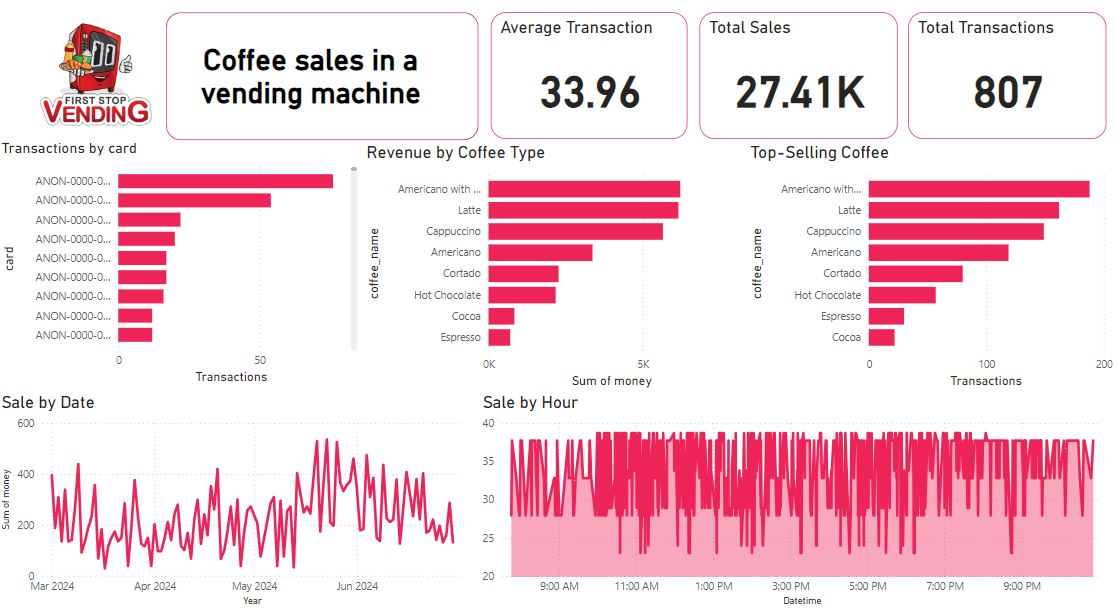

Layout of this report page (visuals, bound fields, positions):
{"tool":"powerbi","page":{"name":"Page 1","canvas":[1280,720],"ordinal":0},"visuals":[{"type":"card","title":"Total Sales","fields":{"Values":["Sum(index.money)"]},"box":[802.5,35,226.2,145],"z":0},{"type":"card","title":"Total Transactions","fields":{"Values":["index.Transactions"]},"box":[1041.2,35,226.2,145],"z":1000},{"type":"lineChart","title":"Sale by Date","fields":{"Y":["Sum(index.money)"],"Category":["index.date.Variation.Date Hierarchy.Year","index.date.Variation.Date Hierarchy.Month","index.date.Variation.Date Hierarchy.Day"]},"box":[0,470.7,550.3,249.7],"z":2000},{"type":"areaChart","title":"Sale by Hour ","fields":{"Category":["index.datetime"],"Y":["Sum(index.money)"]},"box":[550,470,730,250],"z":3000},{"type":"barChart","title":"Top-Selling Coffee ","fields":{"Category":["index.coffee_name"],"Y":["index.Transactions"]},"box":[855.7,184.3,424.3,285.7],"z":4000},{"type":"barChart","title":"Revenue by Coffee Type","fields":{"Category":["index.coffee_name"],"Y":["Sum(index.money)"]},"box":[417.1,184.3,438.6,285.7],"z":5000},{"type":"clusteredBarChart","fields":{"Category":["index.card"],"Y":["index.Transactions"]},"box":[0,180,417.1,285.7],"z":6000},{"type":"card","title":"Average Transaction ","fields":{"Values":["index.Average Sale Value"]},"box":[563.8,35,225,145],"z":7000},{"type":"image","box":[0,0,221.4,200],"z":8000},{"type":"shape","box":[192.5,35,357.5,146.2],"z":9000},{"type":"textbox","box":[193.8,66.2,328.8,102.5],"z":10000}]}

Visuals, with their boxes on the page's 1280x720 design canvas (x1, y1, x2, y2). These are canvas units, not pixel positions in the 1117x609 screenshot, which may show the page scaled, cropped or inside an application window:
"Total Sales" card: <region>802, 35, 1029, 180</region>
"Total Transactions" card: <region>1041, 35, 1267, 180</region>
"Sale by Date" lineChart: <region>0, 471, 550, 720</region>
"Sale by Hour " areaChart: <region>550, 470, 1280, 720</region>
"Top-Selling Coffee " barChart: <region>856, 184, 1280, 470</region>
"Revenue by Coffee Type" barChart: <region>417, 184, 856, 470</region>
clusteredBarChart - index.card x index.Transactions: <region>0, 180, 417, 466</region>
"Average Transaction " card: <region>564, 35, 789, 180</region>
image: <region>0, 0, 221, 200</region>
shape: <region>192, 35, 550, 181</region>
textbox: <region>194, 66, 523, 169</region>
